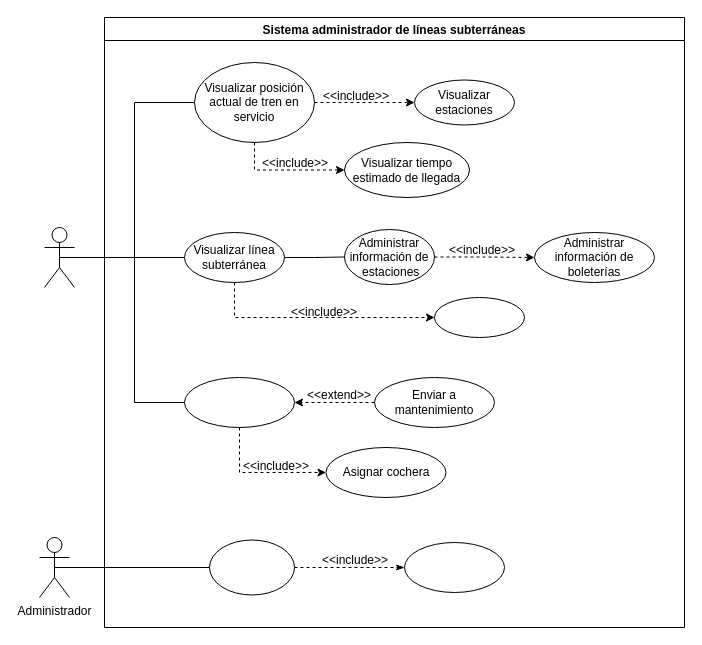
This 702x645 diagram has some shape labels left out. Here are the shapes that lost their labels. From the top down, the centre of each, then its label:
the point at 59,257: Empleado
the point at 479,317: Ver primer y ultimo tren
the point at 239,402: Administrar información de trenes
the point at 251,567: Modificar estaciones
the point at 454,567: Modificar lineas
